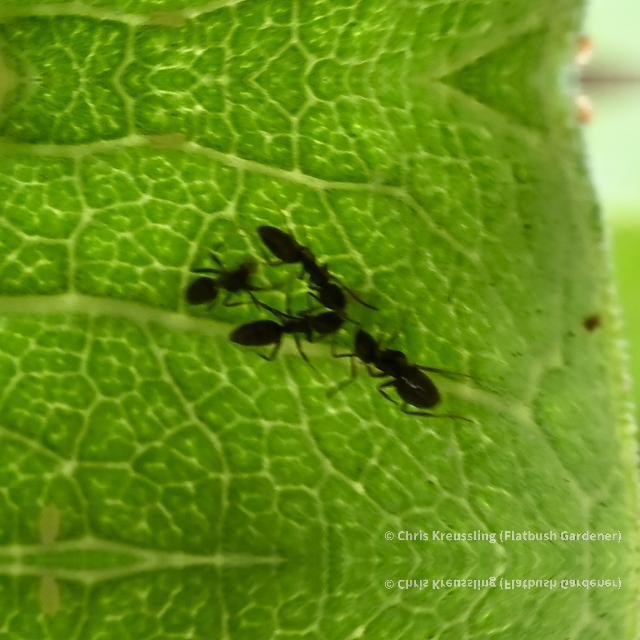Tapinoma: (336, 319, 464, 425), (245, 215, 369, 315), (221, 297, 359, 365), (171, 241, 273, 317)
